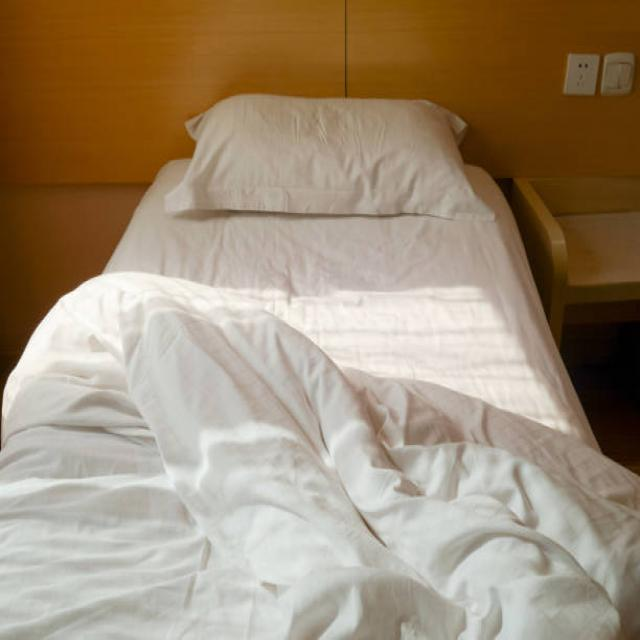bed: (29, 86, 528, 602)
